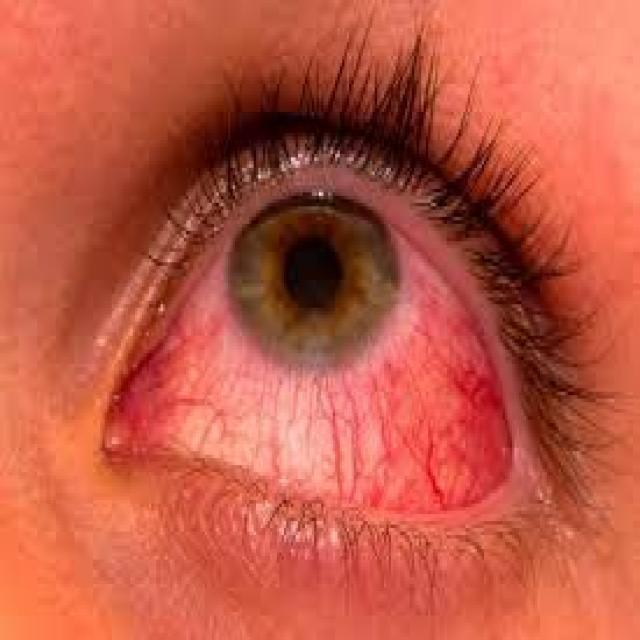Conjunctivitis: (91, 222, 558, 519)
